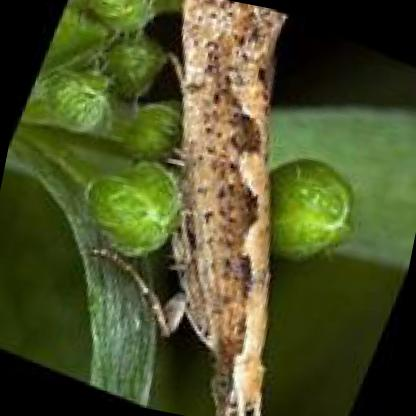plutella: (89, 0, 287, 416)
